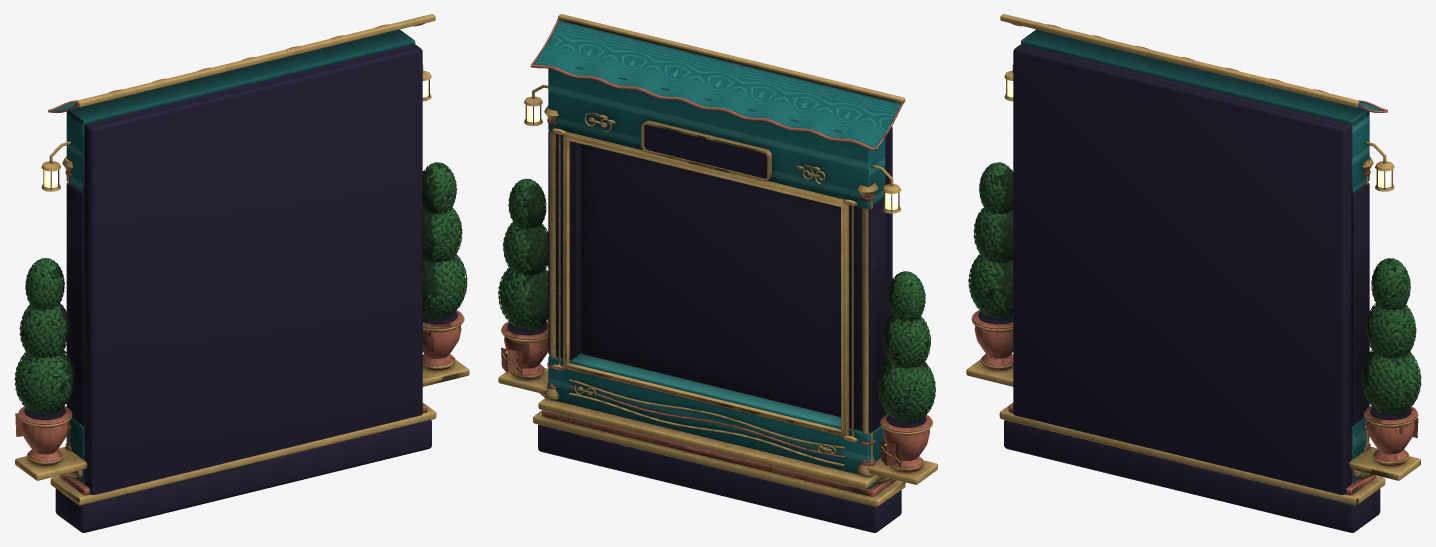
3 views of the same model, side by side, from view 1: azimuth 30°, elevation 25°; view 2: azimuth 150°, elevation 25°; view 3: azimuth 330°, elevation 25° (orthographic). The views are drawn at different scales.
Parts seen in each view (by area): view 1: Violet_enamel, Fine_boxwood_foliage, Warm_exhibition_brass, Teal_woven_cloth, Coral_fired_terracotta; view 2: Violet_enamel, Teal_woven_cloth, Warm_exhibition_brass, Fine_boxwood_foliage, Coral_fired_terracotta; view 3: Violet_enamel, Fine_boxwood_foliage, Warm_exhibition_brass, Teal_woven_cloth, Coral_fired_terracotta.
Boxes of the visible parts, x1,y1,x2,y2 form: Violet_enamel: (24, 44, 457, 532); Fine_boxwood_foliage: (14, 162, 467, 415); Warm_exhibition_brass: (15, 14, 469, 505); Teal_woven_cloth: (52, 29, 415, 482); Coral_fired_terracotta: (15, 23, 463, 495); Violet_enamel: (507, 124, 926, 532); Teal_woven_cloth: (533, 20, 900, 489); Warm_exhibition_brass: (498, 14, 937, 506); Fine_boxwood_foliage: (498, 178, 935, 422); Coral_fired_terracotta: (501, 19, 931, 496); Violet_enamel: (978, 44, 1411, 532); Fine_boxwood_foliage: (968, 162, 1421, 414); Warm_exhibition_brass: (966, 14, 1420, 505); Teal_woven_cloth: (1021, 29, 1383, 482); Coral_fired_terracotta: (972, 23, 1418, 495).
Bounding box in the file's own units: 10.8 × 10 × 1.49.
6 materials, 5 textured.
